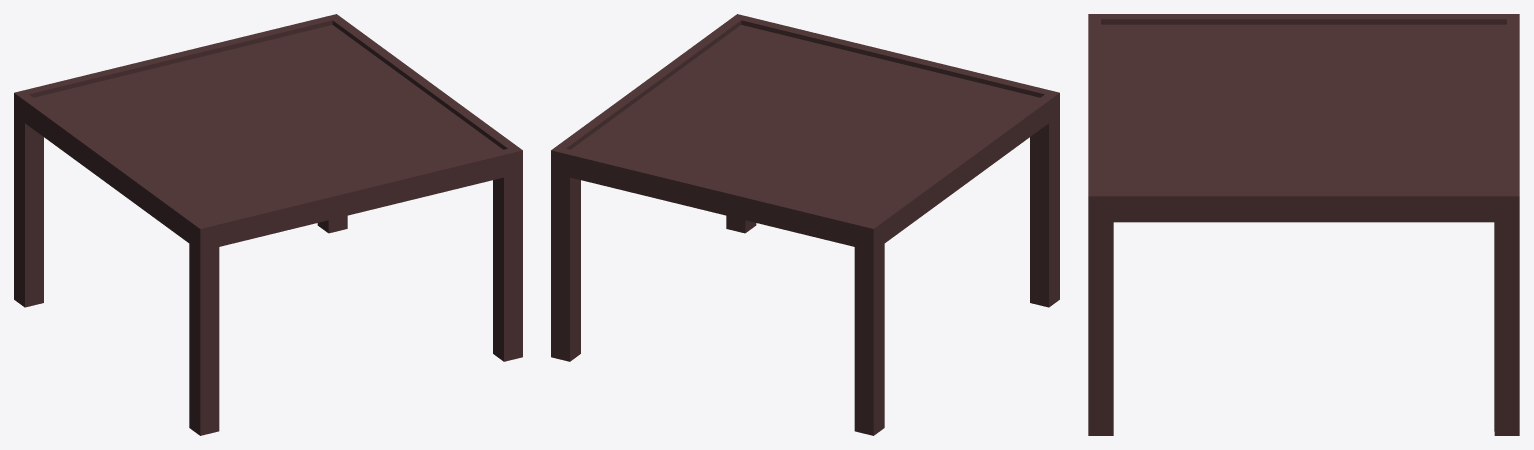
Rendered from Table.fbx.
The picture shows the model from 3 angles, left to right: view 1: azimuth 30°, elevation 25°; view 2: azimuth 150°, elevation 25°; view 3: azimuth 270°, elevation 25°; orthographic projection. The views are drawn at different scales.
Visible parts, largest first — view 1: MesaAuxSofa; view 2: MesaAuxSofa; view 3: MesaAuxSofa.
Part boxes in pixels (x1,y1,x2,y2): MesaAuxSofa: (14,14,522,435); MesaAuxSofa: (551,14,1059,435); MesaAuxSofa: (1088,14,1519,435).
Size of the model in its own units: 0.9108 by 0.9108 by 0.5581.
